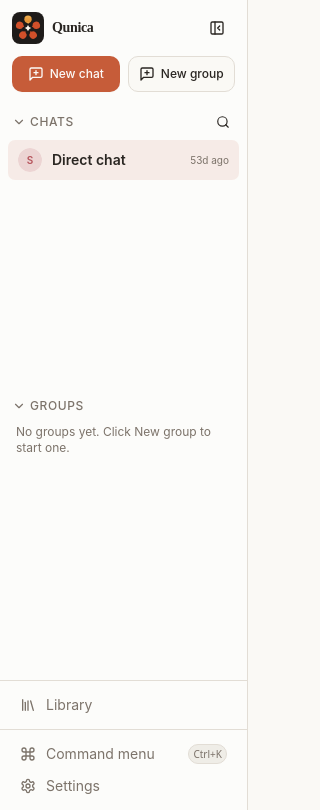
Scenario: AppSidebar terminal cleanup › keeps conversation search collapsed until requested
Expected: the field labelled "Search conversations" is not shown
Click the button named "Search conversations" at (223, 122), box [211,110,235,134]
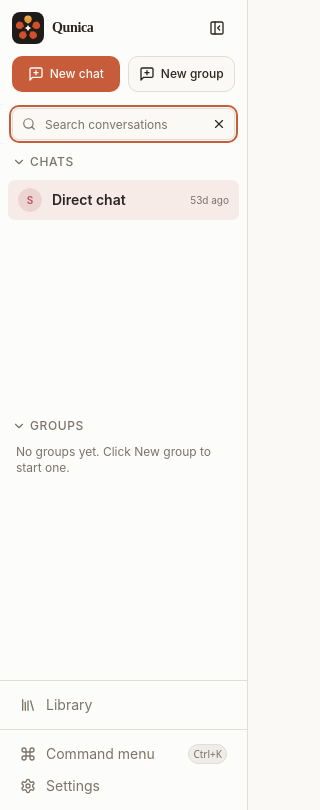
Type "missing" into the field labelled "Search conversations" at (124, 124), box [12,108,235,140]
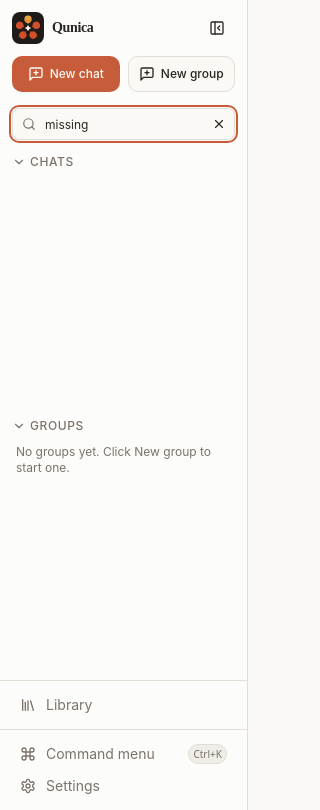
Now the link "Direct chat" is gone
Click the button named "Close" at (219, 124), box [205,110,233,138]
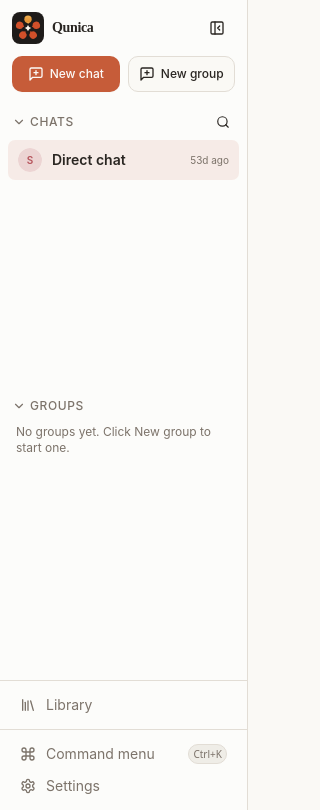
Expected: the field labelled "Search conversations" is not shown
Now the text "Direct chat" is shown, box [52,151,126,168]
